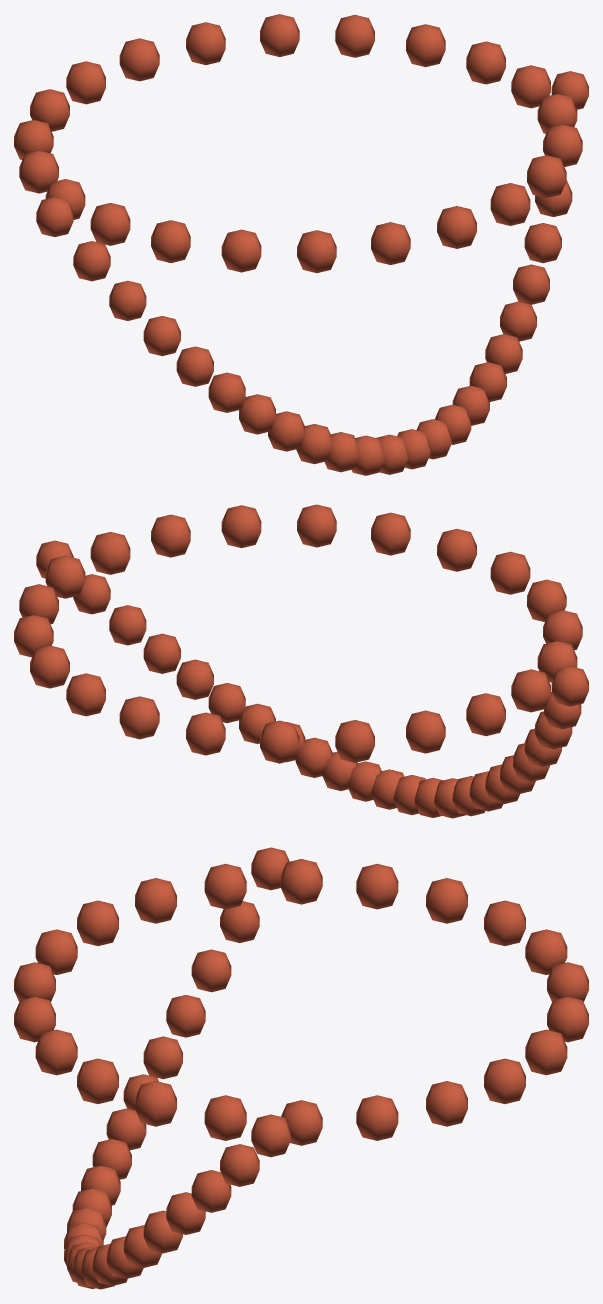
Rendered from coral_necklace_m.glb.
3 renders of one model, top to bottom at view 1: azimuth 30°, elevation 25°; view 2: azimuth 150°, elevation 25°; view 3: azimuth 270°, elevation 25°, orthographic. The views are drawn at different scales.
Parts seen in each view (by area): view 1: hair; view 2: hair; view 3: hair.
Boxes of the visible parts, box(x1,y1,x2,y2) form: hair: box(14, 14, 588, 475); hair: box(14, 504, 588, 818); hair: box(14, 847, 588, 1289).
Bounding box in the file's own units: 0.2227 × 0.1053 × 0.1891.
